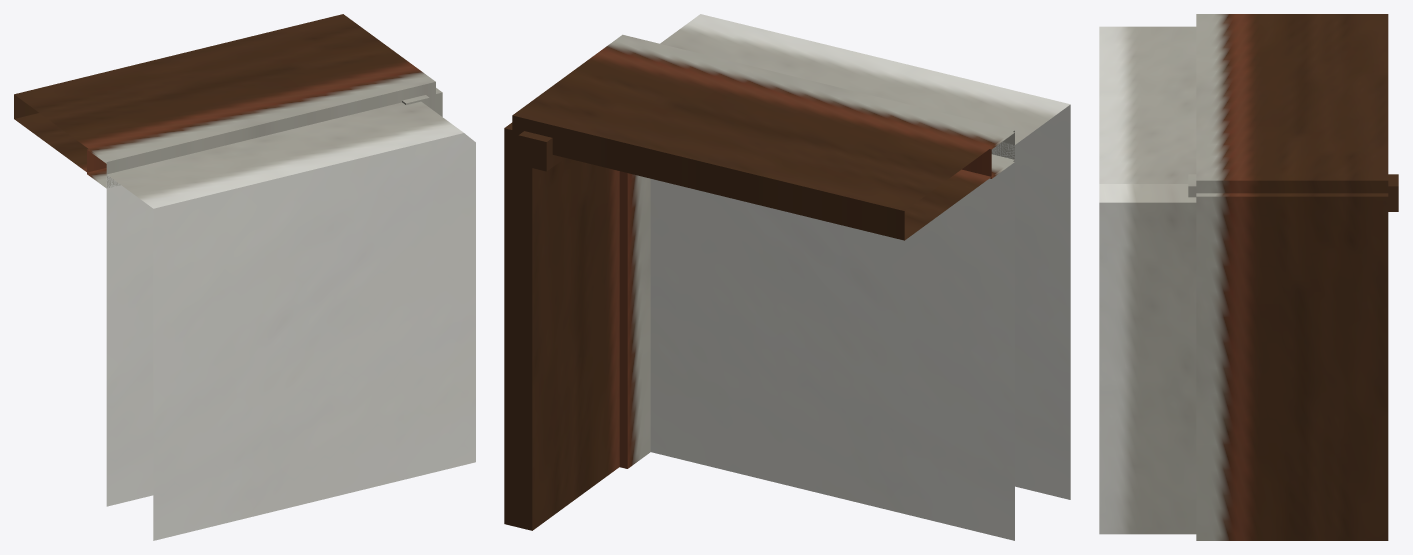
The model's file is pz_bed_bedding_01_large_modern_1_1.obj.
3 renders of one model, left to right at view 1: azimuth 30°, elevation 25°; view 2: azimuth 150°, elevation 25°; view 3: azimuth 270°, elevation 25°, orthographic. The views are drawn at different scales.
Bounding box in the file's own units: 0.995 × 0.975 × 0.74.
Materials: 1 (1 with a texture image).
